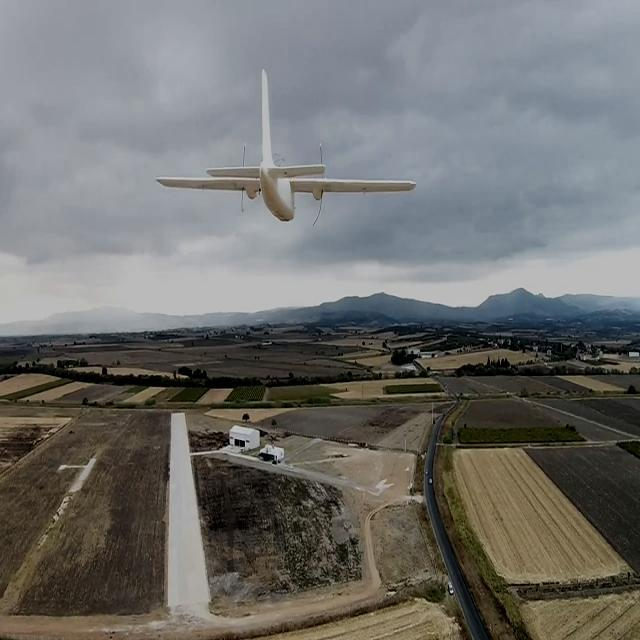iha: (152, 54, 411, 265)
